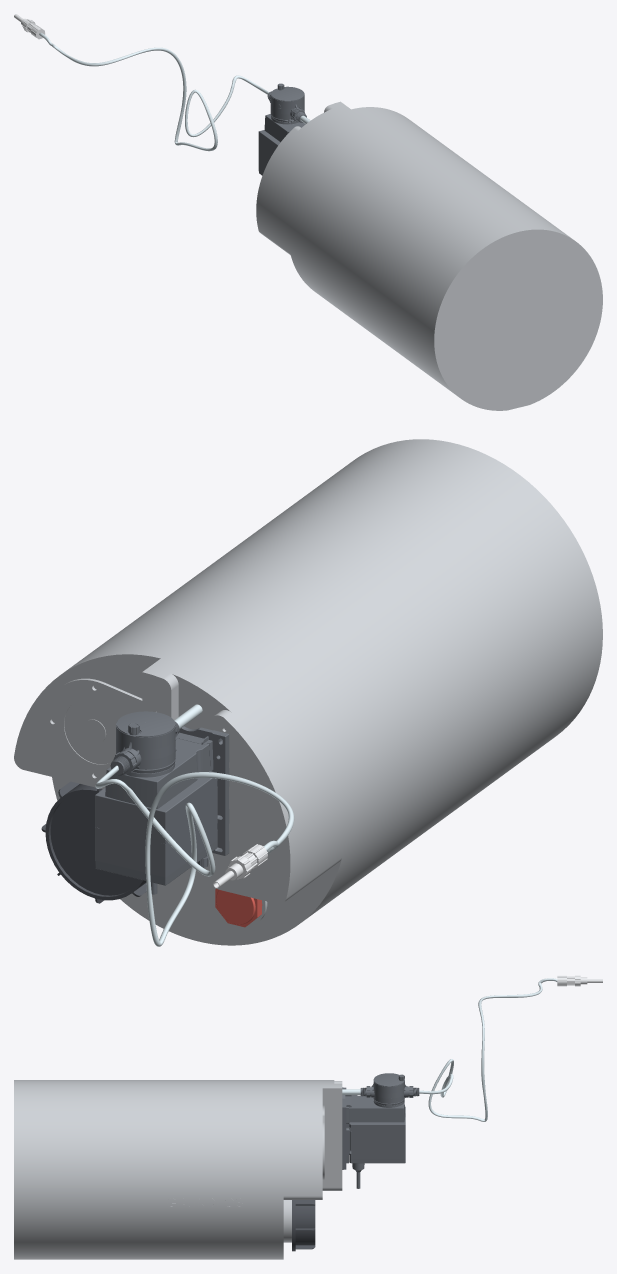
The model's file is instalacja.glb.
The picture shows the model from 3 angles, top to bottom: view 1: azimuth 30°, elevation 25°; view 2: azimuth 150°, elevation 25°; view 3: azimuth 270°, elevation 25°; orthographic projection. The views are drawn at different scales.
Parts seen in each view (by area): view 1: zbiornik 100L_grundfos, DDE_6-10_P, wezyk tloczacy^ESPEDOS GZ100-N; view 2: zbiornik 100L_grundfos, DDE_6-10_P, nakretka_grundfos, wezyk tloczacy^ESPEDOS GZ100-N, korek 2'''', sonda kompletna_grundfos; view 3: zbiornik 100L_grundfos, DDE_6-10_P, wezyk tloczacy^ESPEDOS GZ100-N, nakretka_grundfos, sonda kompletna_grundfos.
Part boxes in pixels (left/top/right/bottom): zbiornik 100L_grundfos: left=256, top=101, right=602, bottom=410; DDE_6-10_P: left=258, top=83, right=306, bottom=175; wezyk tloczacy^ESPEDOS GZ100-N: left=39, top=32, right=269, bottom=151; zbiornik 100L_grundfos: left=14, top=439, right=602, bottom=945; DDE_6-10_P: left=95, top=711, right=229, bottom=894; nakretka_grundfos: left=41, top=781, right=146, bottom=903; wezyk tloczacy^ESPEDOS GZ100-N: left=95, top=765, right=294, bottom=946; korek 2'''': left=215, top=888, right=262, bottom=927; sonda kompletna_grundfos: left=213, top=844, right=267, bottom=888; zbiornik 100L_grundfos: left=14, top=1080, right=342, bottom=1259; DDE_6-10_P: left=342, top=1073, right=419, bottom=1188; wezyk tloczacy^ESPEDOS GZ100-N: left=419, top=978, right=557, bottom=1121; nakretka_grundfos: left=292, top=1200, right=315, bottom=1251; sonda kompletna_grundfos: left=557, top=975, right=602, bottom=986.
Bounding box in the file's own units: 0.7455 × 0.559 × 1.51.
